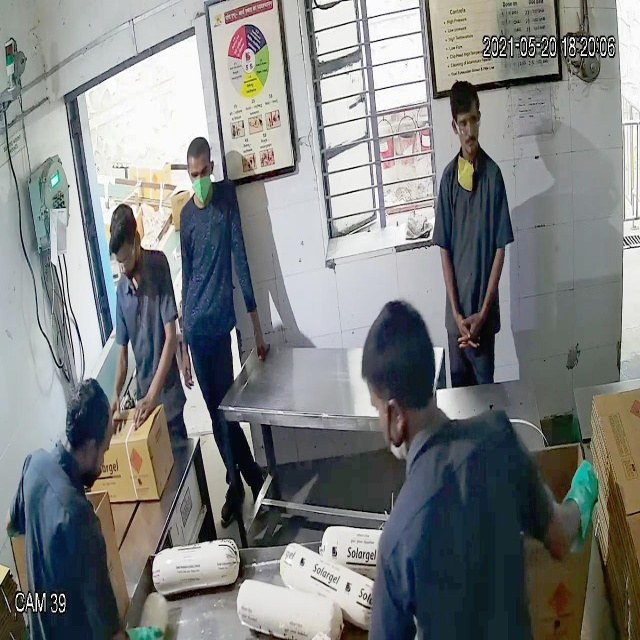Gafas: (447, 110, 486, 137)
Sin_gafas: (187, 160, 214, 181)
